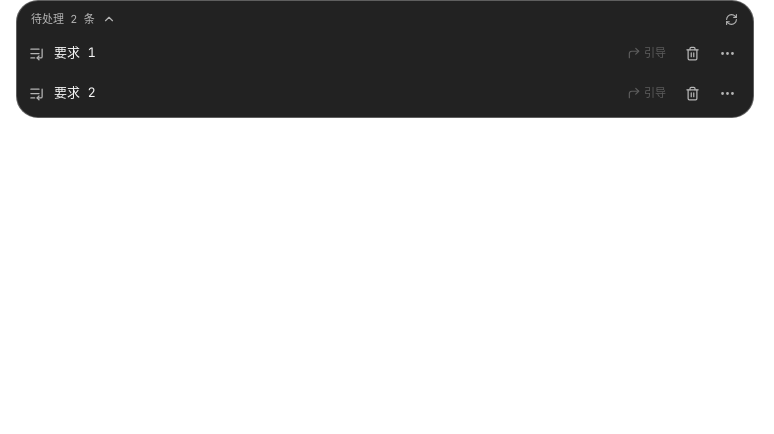
Test: does not treat an unauthorized retry as proof that the original unknown save was rejected
Expected: the text "待处理 2 条" is shown, [31,11,95,27]
Click the button named "消息 1 的更多操作" at (727,53), box [713,39,741,67]
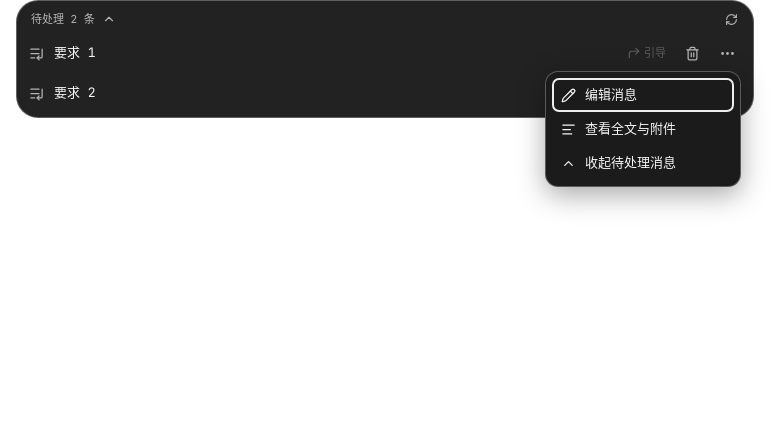
Click the menu item "编辑消息" at (643,95), box [552,78,734,112]
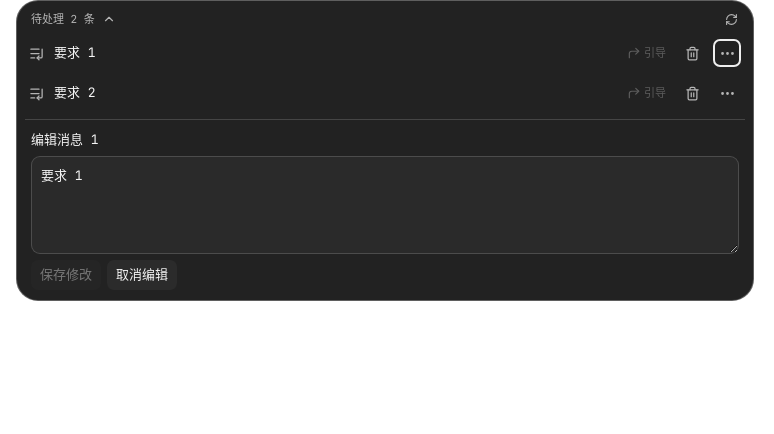
Replace the text in the text box labelled "编辑消息 1" with "此前已经保存的正文" at (385,204), box [31,156,739,254]
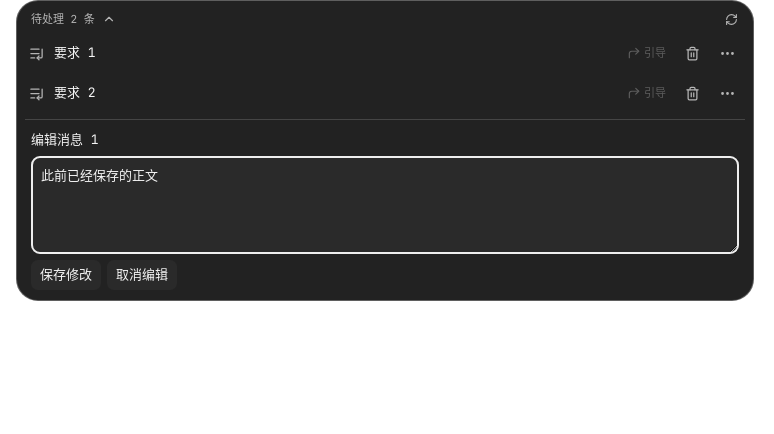
Click the button "保存修改" at (66,274), box [31,260,101,290]
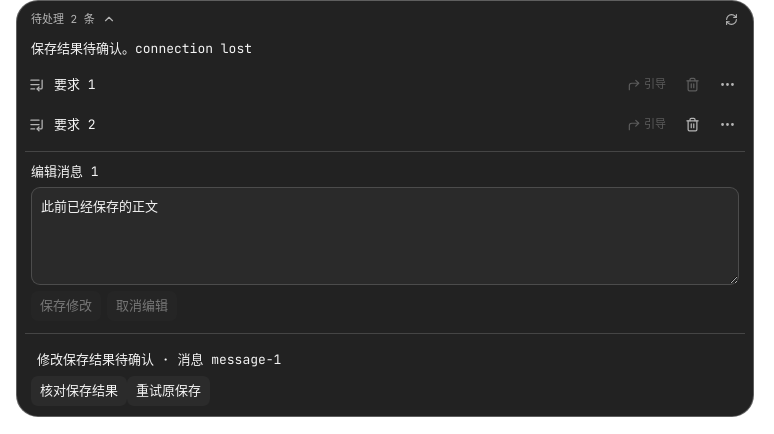
Result: the text "保存结果待确认。connection lost" is shown at [31,40,252,57]
Click the button "重试原保存" at (168,390), box [127,376,210,406]
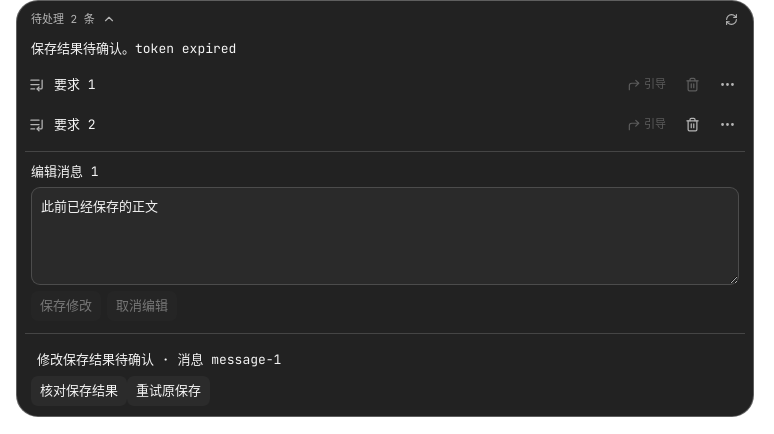
Result: the button "核对保存结果" is enabled
Result: the text "保存结果待确认。token expired" is shown at [31,40,236,57]
Click the button "核对保存结果" at (79,390), box [31,376,127,406]
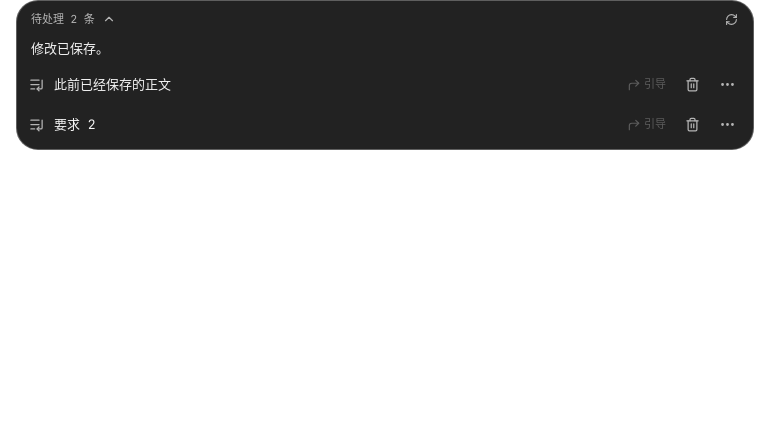
Result: the text "修改已保存。" is shown at [31,40,109,57]
